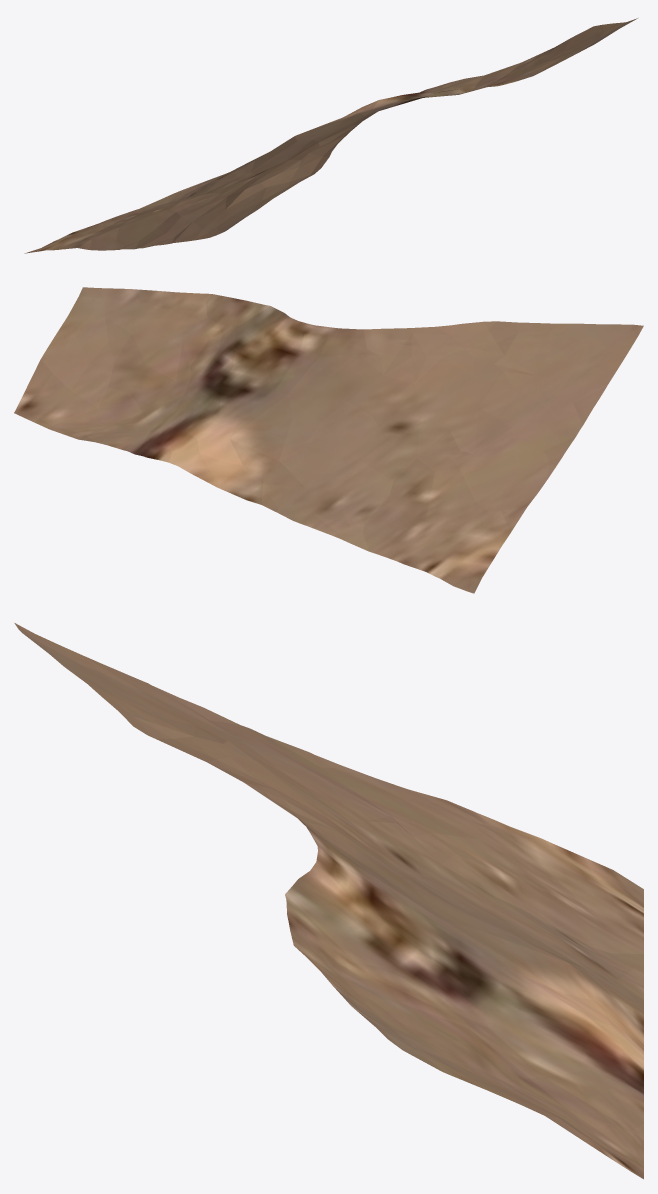
3 renders of one model, top to bottom at view 1: azimuth 30°, elevation 25°; view 2: azimuth 150°, elevation 25°; view 3: azimuth 270°, elevation 25°, orthographic. The views are drawn at different scales.
Bounding box in the file's own units: 1.04 × 0.3116 × 0.6668.
Materials: 1 (1 with a texture image).
